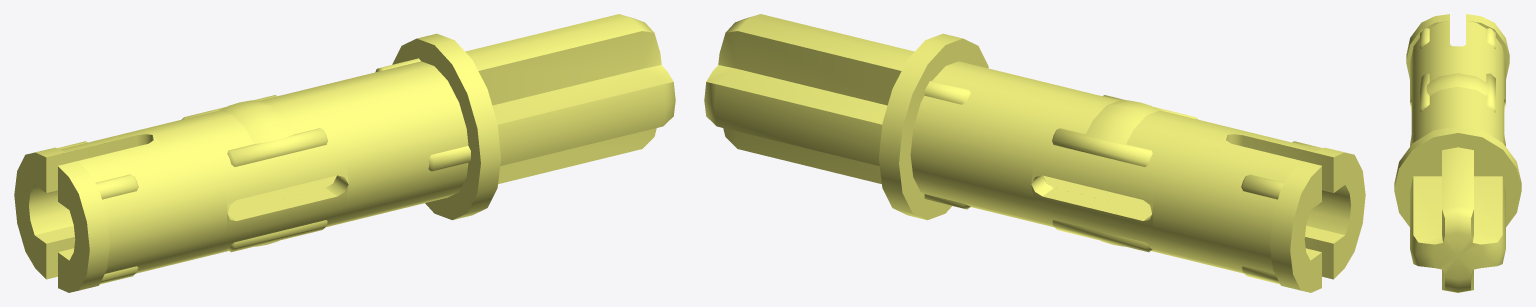
3 renders of one model, left to right at view 1: azimuth 30°, elevation 25°; view 2: azimuth 150°, elevation 25°; view 3: azimuth 270°, elevation 25°, orthographic. The views are drawn at different scales.
Parts seen in each view (by area): view 1: 11214.dat; view 2: 11214.dat; view 3: 11214.dat.
Boxes of the visible parts, x1,y1,x2,y2 form: 11214.dat: (14,14,675,292); 11214.dat: (704,14,1365,292); 11214.dat: (1394,14,1521,292).
Bounding box in the file's own units: 0.0238 × 0.0064 × 0.0064.
